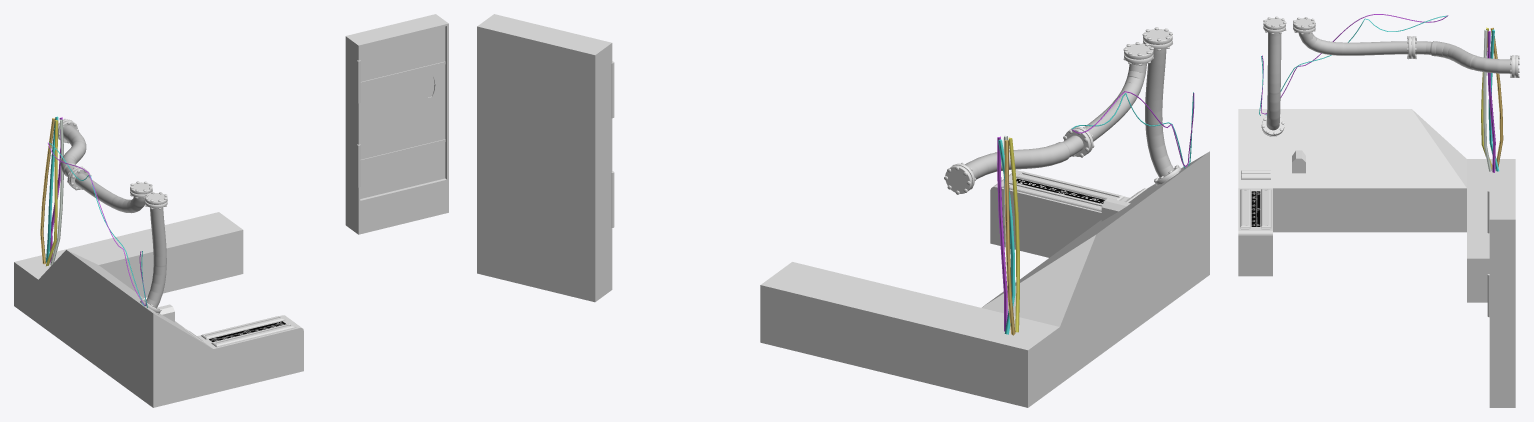
The model's file is control_room.fbx.
3 renders of one model, left to right at view 1: azimuth 30°, elevation 25°; view 2: azimuth 150°, elevation 25°; view 3: azimuth 270°, elevation 25°, orthographic. The views are drawn at different scales.
Visible parts, largest first — view 1: Main Console, Cupboard, GeoNodesPipes.001, GeoCables.001, GeoNodesPipes, Cables, ThrottleLeverChannel, GearLeverChannel; view 2: Main Console, Cupboard, GeoNodesPipes.001, GeoCables.001, GeoNodesPipes, ThrottleLeverChannel, GearLeverChannel, Cables; view 3: Main Console, Cupboard, GeoNodesPipes.001, GeoNodesPipes, GeoCables.001, Cables, ThrottleLeverChannel, GearLeverChannel, Plane, CoolantValveMount, GearLeverChannel.001.
Part boxes in pixels (x1,y1,x2,y2): Main Console: (14, 212, 303, 407); Cupboard: (345, 14, 448, 234); GeoNodesPipes.001: (58, 118, 152, 213); GeoCables.001: (40, 116, 63, 266); GeoNodesPipes: (140, 192, 167, 314); Cables: (48, 142, 147, 307); ThrottleLeverChannel: (211, 323, 294, 347); GearLeverChannel: (201, 316, 284, 339); Main Console: (760, 151, 1209, 407); Cupboard: (477, 14, 612, 302); GeoNodesPipes.001: (944, 42, 1153, 194); GeoCables.001: (997, 135, 1019, 335); GeoNodesPipes: (1142, 27, 1181, 186); ThrottleLeverChannel: (1016, 171, 1124, 200); GearLeverChannel: (1002, 181, 1102, 211); Cables: (1071, 91, 1194, 168); Main Console: (1238, 109, 1515, 302); Cupboard: (1489, 175, 1515, 407); GeoNodesPipes.001: (1293, 17, 1519, 77); GeoNodesPipes: (1261, 16, 1286, 136); GeoCables.001: (1481, 27, 1503, 172); Cables: (1259, 14, 1448, 115); ThrottleLeverChannel: (1240, 189, 1250, 228); GearLeverChannel: (1261, 189, 1271, 228); Plane: (1251, 191, 1260, 226); CoolantValveMount: (1292, 150, 1305, 173); GearLeverChannel.001: (1241, 170, 1270, 179).
Bounding box in the file's own units: 705 × 306 × 406.
